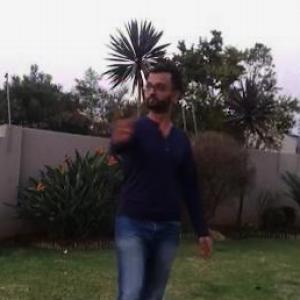takeoff-hand: (104, 101, 140, 147)
